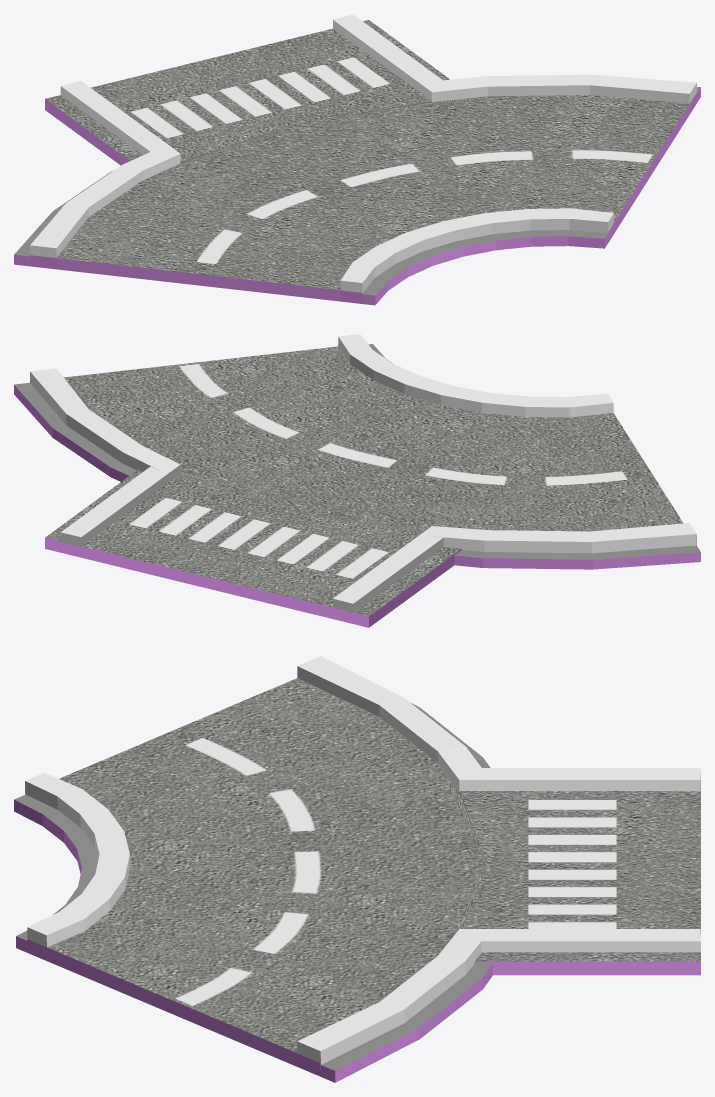
File: 90Turn2.fbx
3 views of the same model, one above another, from view 1: azimuth 30°, elevation 25°; view 2: azimuth 150°, elevation 25°; view 3: azimuth 270°, elevation 25° (orthographic). The views are drawn at different scales.
Visible parts, largest first — view 1: 90Turn2; view 2: 90Turn2; view 3: 90Turn2.
Boxes of the visible parts, x1,y1,x2,y2 form: 90Turn2: [14, 14, 700, 305]; 90Turn2: [14, 334, 700, 627]; 90Turn2: [14, 656, 700, 1082].
Size of the model in its own units: 1273 by 38.83 by 907.
